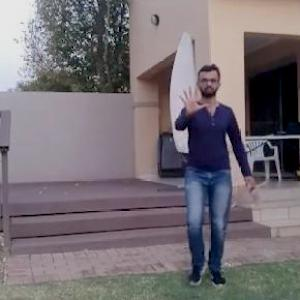follow_hand: (173, 75, 212, 118)
